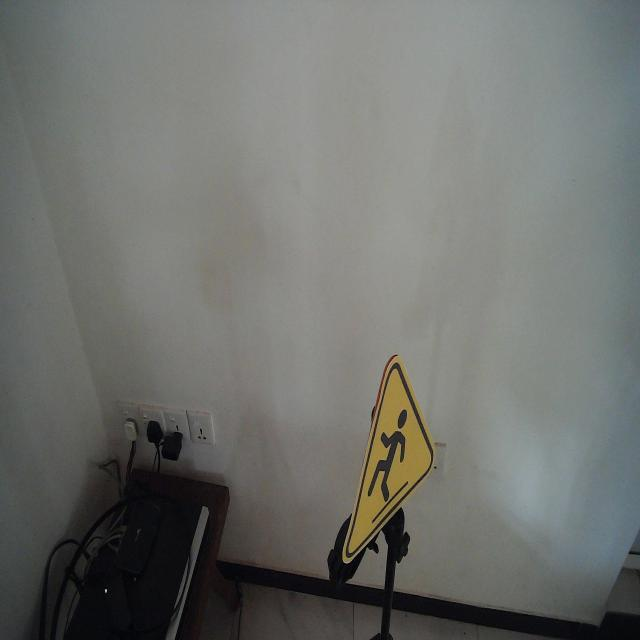slippery_sign: (340, 351, 437, 568)
